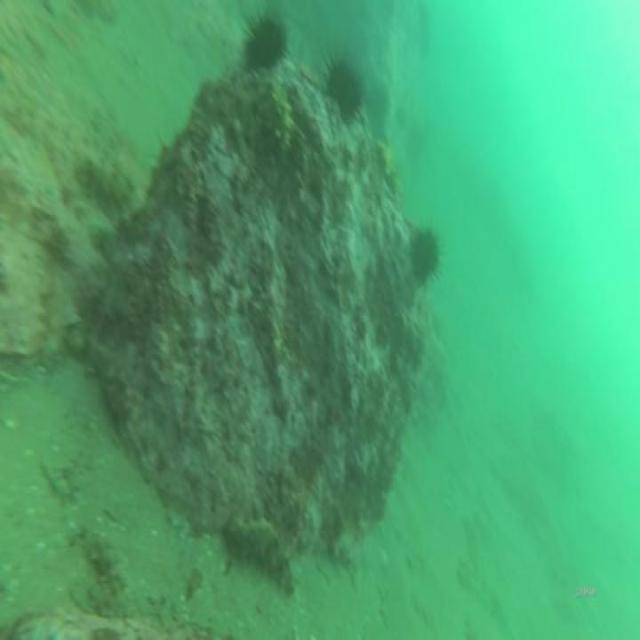echinus: (318, 40, 367, 128), (240, 5, 293, 76), (407, 212, 447, 291)
holothurian: (228, 504, 298, 604), (76, 528, 134, 619), (74, 144, 138, 218), (267, 78, 297, 154)
